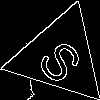S: (34, 31, 93, 88)
